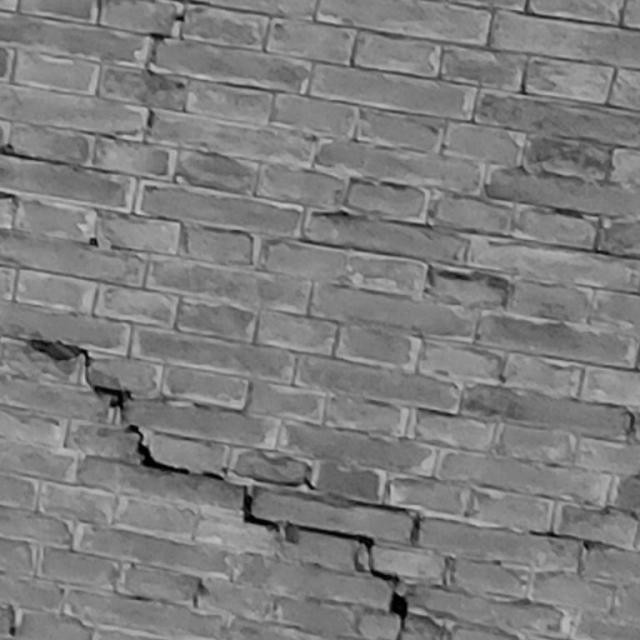crack: (29, 338, 408, 640)
